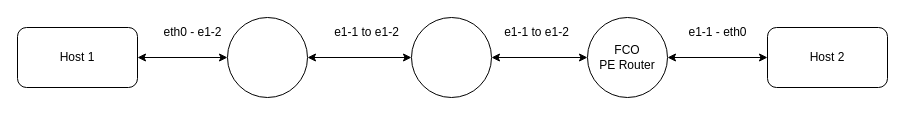
This 905x115 diagram has some shape labels left out. The shapes that lost their labels are listed below. From the top down, each one's centre as x and y in pixels, then its label:
[267,57]: AMS PE Router
[451,57]: LHR P Router
